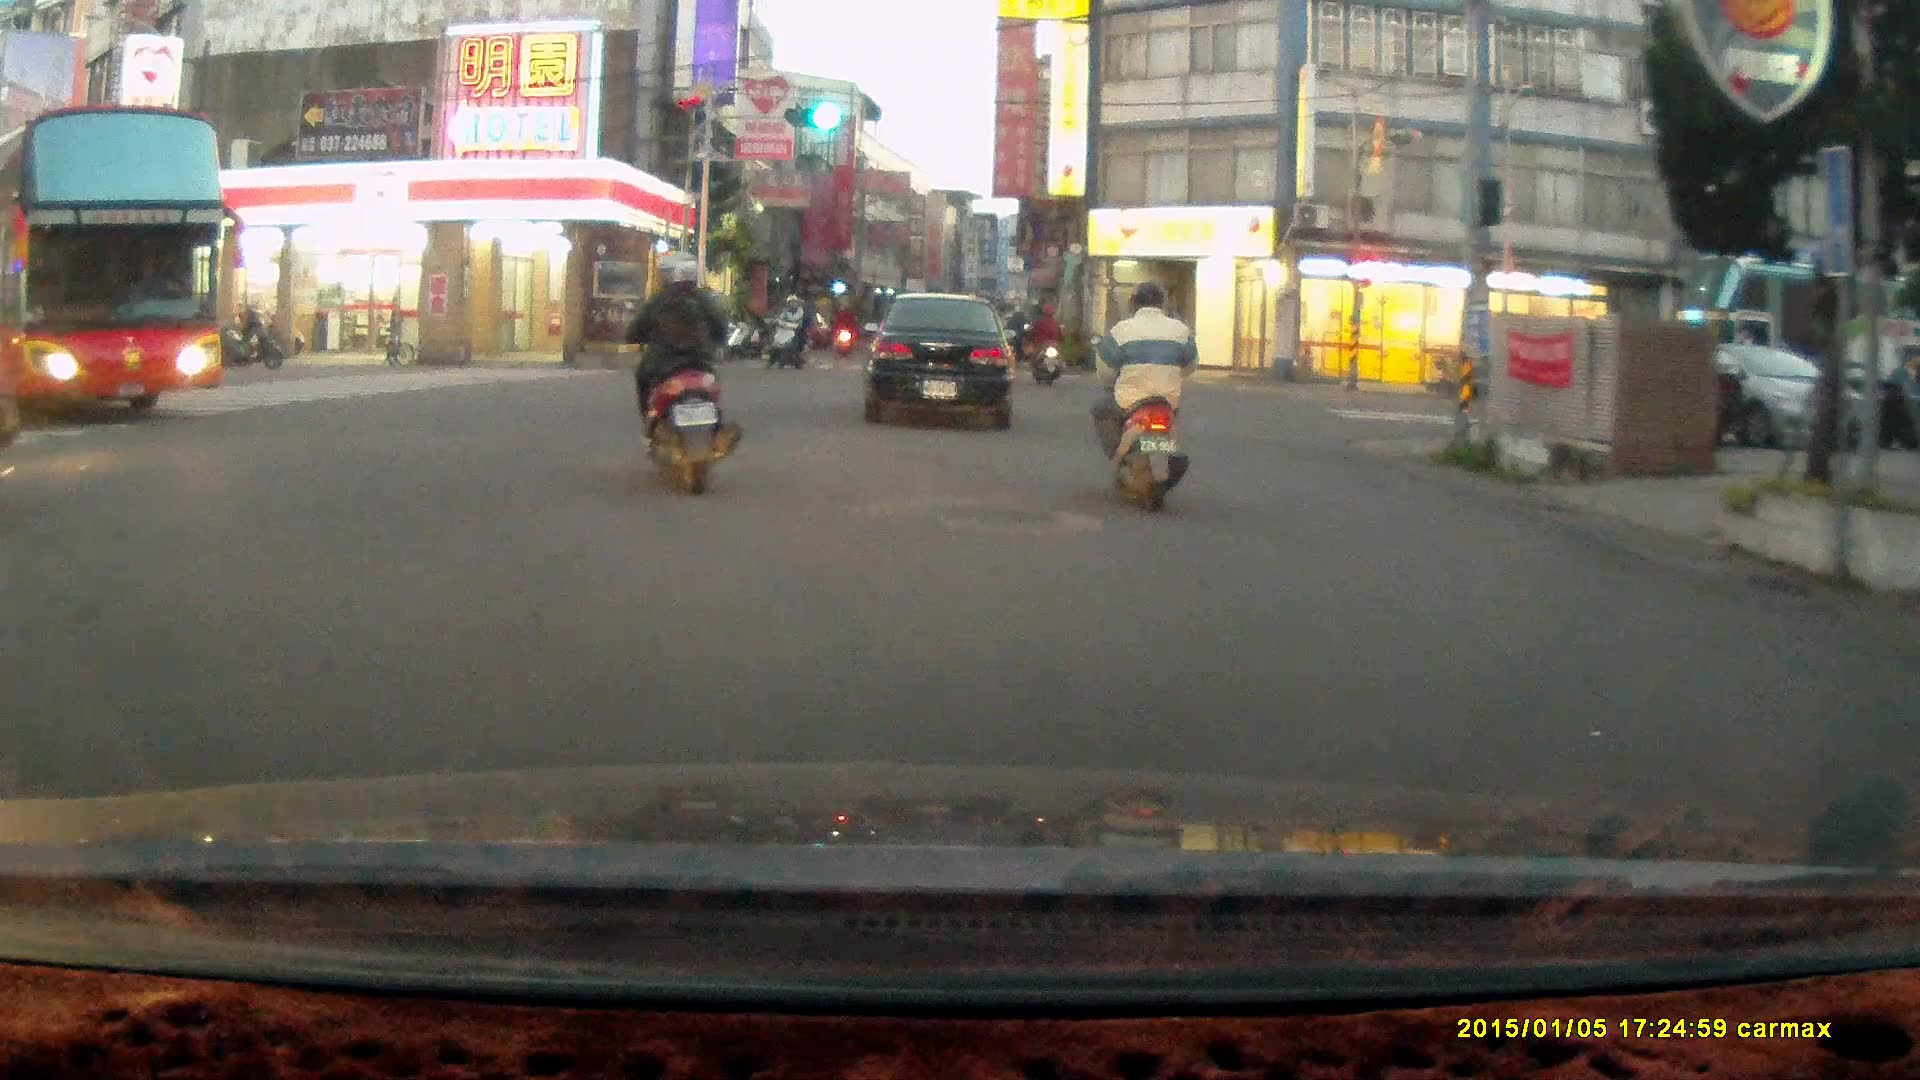rider: (615, 249, 744, 493), (1085, 279, 1199, 514), (1026, 296, 1065, 387), (764, 290, 806, 369)
vehicle: (1, 106, 232, 423), (1599, 339, 1876, 456), (871, 289, 1017, 430)
